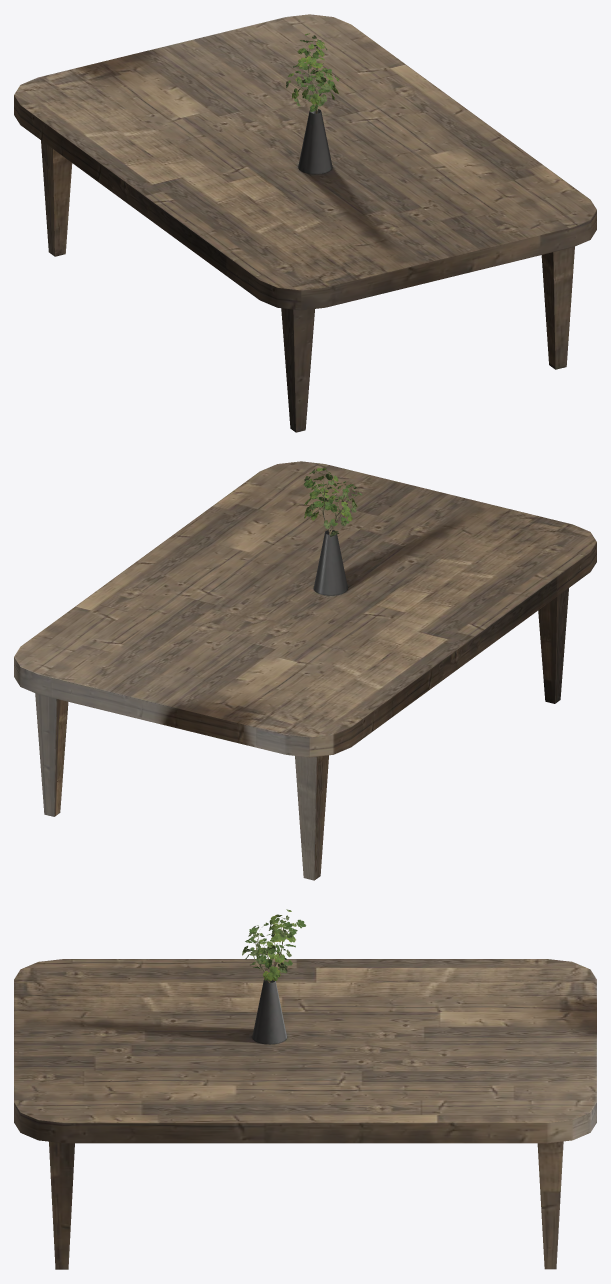
File: table.glb
3 views of the same model, one above another, from view 1: azimuth 30°, elevation 25°; view 2: azimuth 150°, elevation 25°; view 3: azimuth 270°, elevation 25° (orthographic).
Parts seen in each view (by area): view 1: table, plant, vase; view 2: table, plant, vase; view 3: table, plant, vase.
Boxes of the visible parts, <box> form: table: <box>14,14,596,432</box>; plant: <box>286,33,339,113</box>; vase: <box>298,109,332,174</box>; table: <box>14,461,596,880</box>; plant: <box>303,467,362,536</box>; vase: <box>313,530,347,595</box>; table: <box>14,959,596,1269</box>; plant: <box>242,909,305,982</box>; vase: <box>252,979,286,1044</box>.
Bounding box in the file's own units: 1.68 × 1.38 × 2.53.
4 materials, 4 textured.
